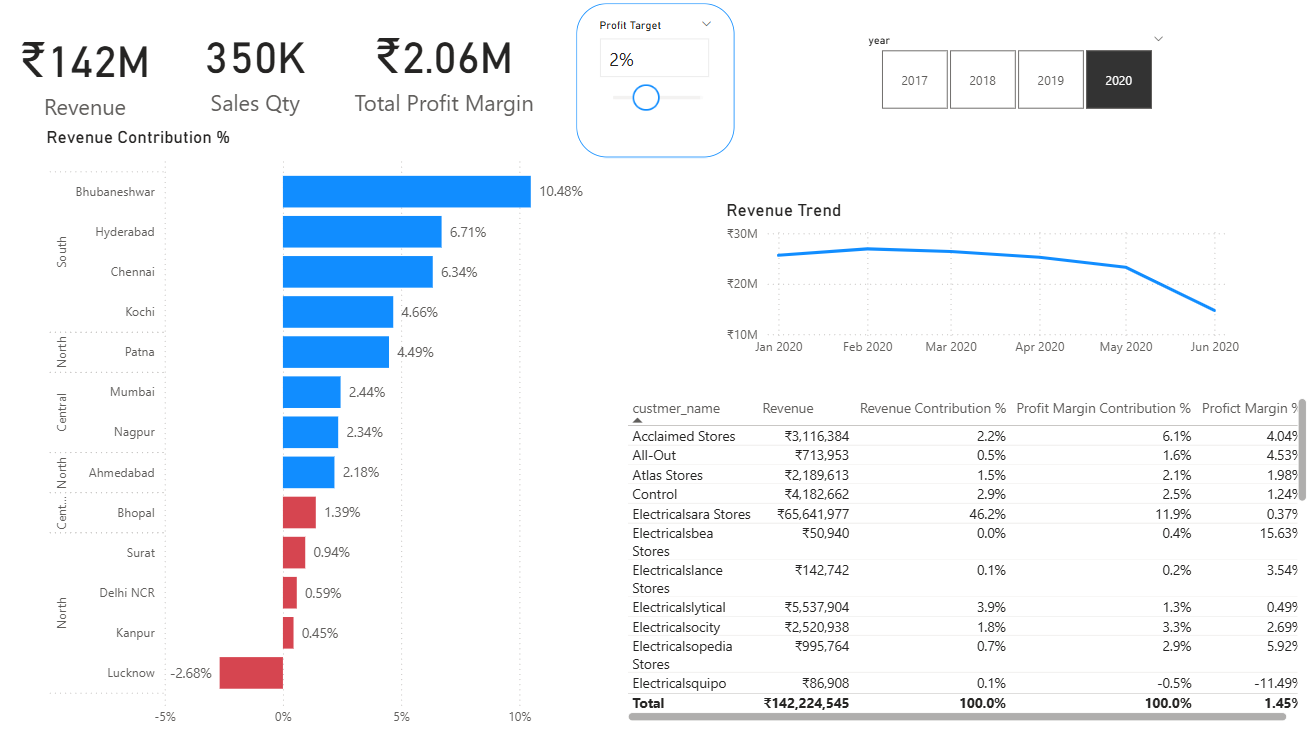

This screenshot's page, from the dashboard's own definition file:
{"tool":"powerbi","page":{"name":"Zone Analysis","canvas":[1280,720],"ordinal":2},"visuals":[{"type":"card","fields":{"Values":["BaseMeasures.Revenue"]},"box":[0,0,166.2,147.5],"z":0},{"type":"card","fields":{"Values":["BaseMeasures.Sales Qty"]},"box":[160,0,178.8,138.8],"z":1000},{"type":"slicer","fields":{"Values":["sales date.year"]},"box":[833.7,30.2,313.7,85.7],"z":2000},{"type":"tableEx","title":"Top 5 customers","fields":{"Values":["sales customers.custmer_name","BaseMeasures.Revenue","BaseMeasures.Revenue Contribution %","BaseMeasures.Profit Margin Contribution %","BaseMeasures.Profict Margin %"]},"box":[606.2,386.2,673.8,325],"z":4000},{"type":"lineChart","title":"Revenue Trend","fields":{"Y":["BaseMeasures.Revenue"],"Category":["sales date.cy_date"]},"box":[703.4,197.9,510.3,161.7],"z":5000},{"type":"card","fields":{"Values":["BaseMeasures.Total Profit Margin"]},"box":[338.8,0,188.8,138.8],"z":6000},{"type":"barChart","title":"Revenue Contribution %","fields":{"Y":["BaseMeasures.Profict Margin %"],"Category":["sales markets.zone","sales markets.markets_name"]},"box":[40,126.7,551.1,593.3],"z":7000},{"type":"slicer","fields":{"Values":["Profit Target.Profit Target"]},"box":[562.2,5.6,154.4,150],"z":8000}]}

Visuals, with their boxes in screenshot pixels (x1, y1, x2, y2), scaled from the page's 1280x720 canvas onto the 1309x735 screenshot:
card - BaseMeasures.Revenue: {"left": 0, "top": 0, "right": 170, "bottom": 151}
card - BaseMeasures.Sales Qty: {"left": 164, "top": 0, "right": 346, "bottom": 142}
slicer - sales date.year: {"left": 853, "top": 31, "right": 1173, "bottom": 118}
"Top 5 customers" tableEx: {"left": 620, "top": 394, "right": 1308, "bottom": 726}
"Revenue Trend" lineChart: {"left": 719, "top": 202, "right": 1241, "bottom": 367}
card - BaseMeasures.Total Profit Margin: {"left": 346, "top": 0, "right": 540, "bottom": 142}
"Revenue Contribution %" barChart: {"left": 41, "top": 129, "right": 604, "bottom": 734}
slicer - Profit Target.Profit Target: {"left": 575, "top": 6, "right": 733, "bottom": 159}
